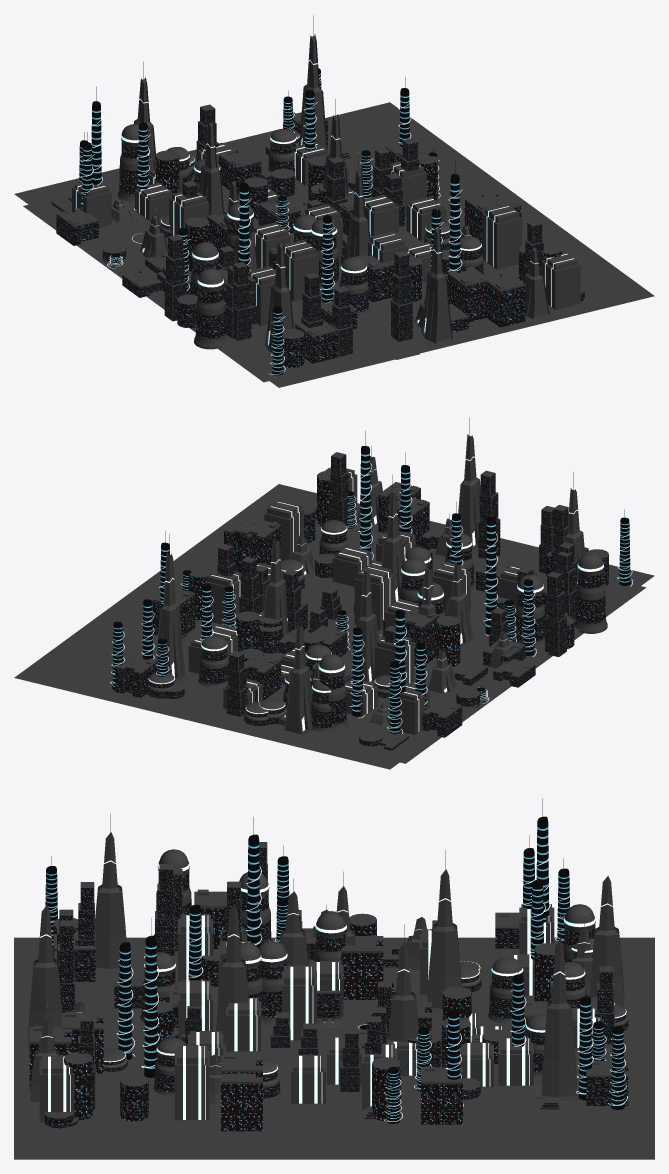
File: City.glb
3 views of the same model, one above another, from view 1: azimuth 30°, elevation 25°; view 2: azimuth 150°, elevation 25°; view 3: azimuth 270°, elevation 25° (orthographic). The views are drawn at different scales.
Visible parts, largest first — view 1: GN Instance (×69), Plane, Generate; view 2: GN Instance (×73), Plane, Generate; view 3: GN Instance (×91), Plane.
Boxes of the visible parts, left/top/right/bottom form: GN Instance (×69): left=56, top=14, right=580, bottom=375; Plane: left=14, top=102, right=654, bottom=387; Generate: left=23, top=204, right=268, bottom=382; GN Instance (×73): left=110, top=416, right=632, bottom=737; Plane: left=14, top=484, right=654, bottom=769; Generate: left=400, top=586, right=646, bottom=763; GN Instance (×91): left=20, top=798, right=628, bottom=1131; Plane: left=14, top=937, right=654, bottom=1159.
Size of the model in its own units: 44.51 by 15.99 by 52.
4 materials, 2 textured.
